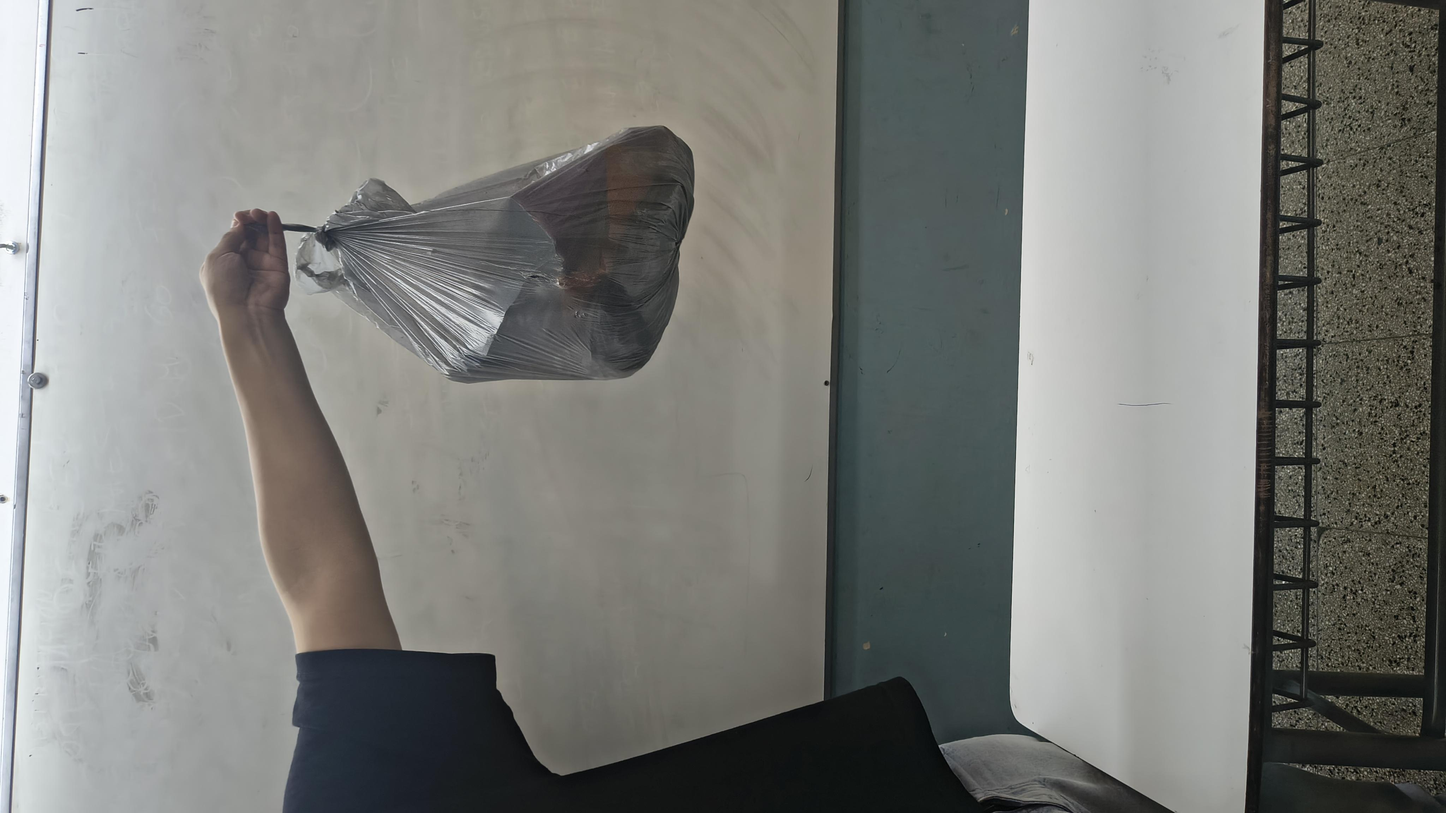Garbage: (709, 151, 1280, 405)
